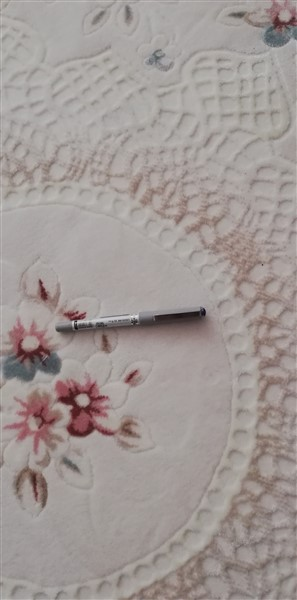pilot kalem: (53, 303, 211, 338)
